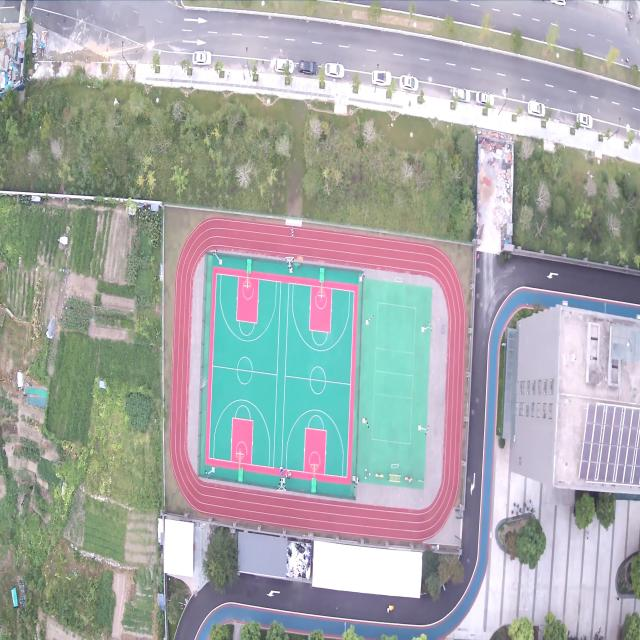UAV: (198, 375, 209, 393)
